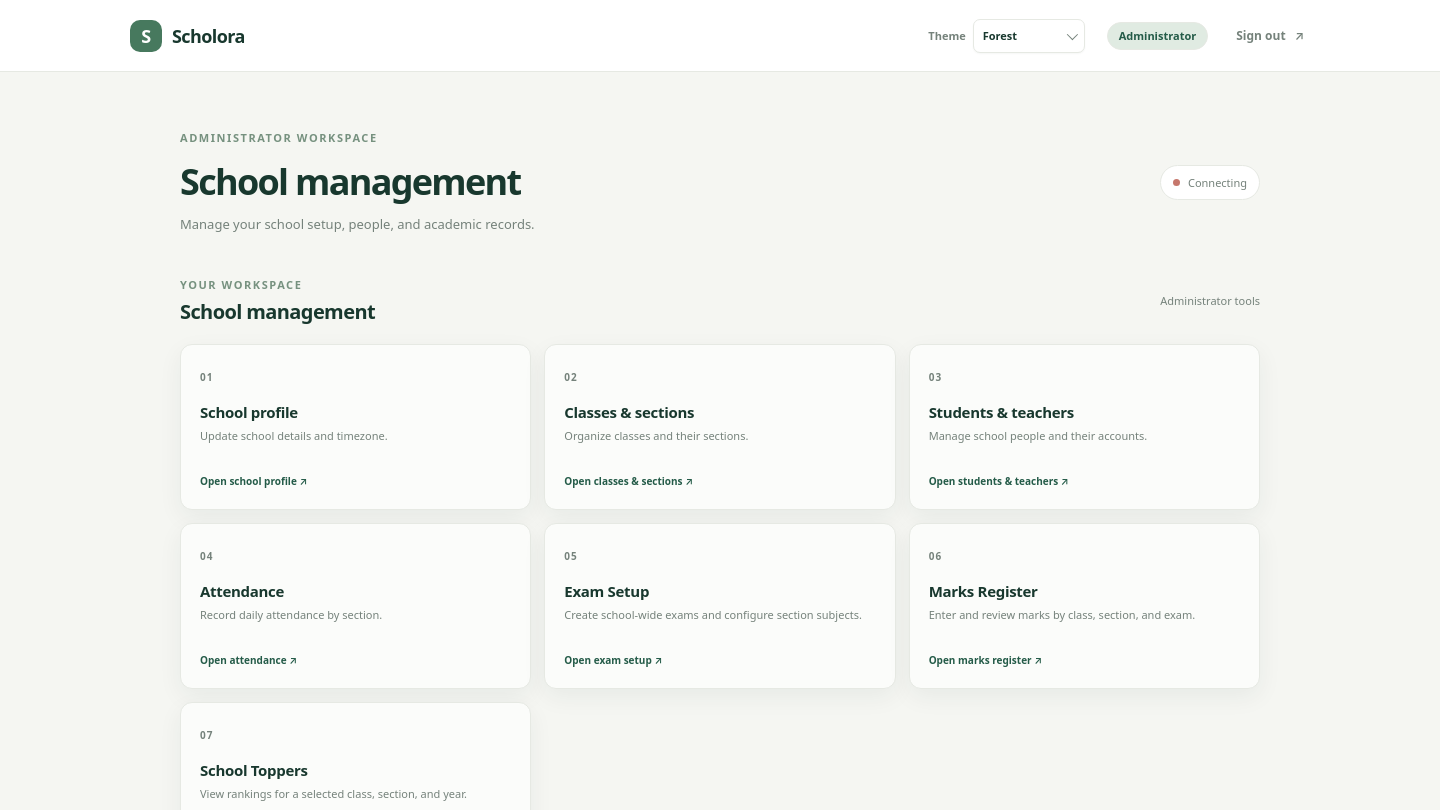
Test: admin navigation › opens the School management dashboard first and displays only the selected page
The width and height of the screenshot is (1440, 810).
Expected: the heading "School management" below "Administrator workspace" is shown, [180,157,535,206]
Expected: the link with aria-label "Scholora home" is shown, [130,20,245,52]
Click the link "School profile": (356, 427) [180,344,531,510]
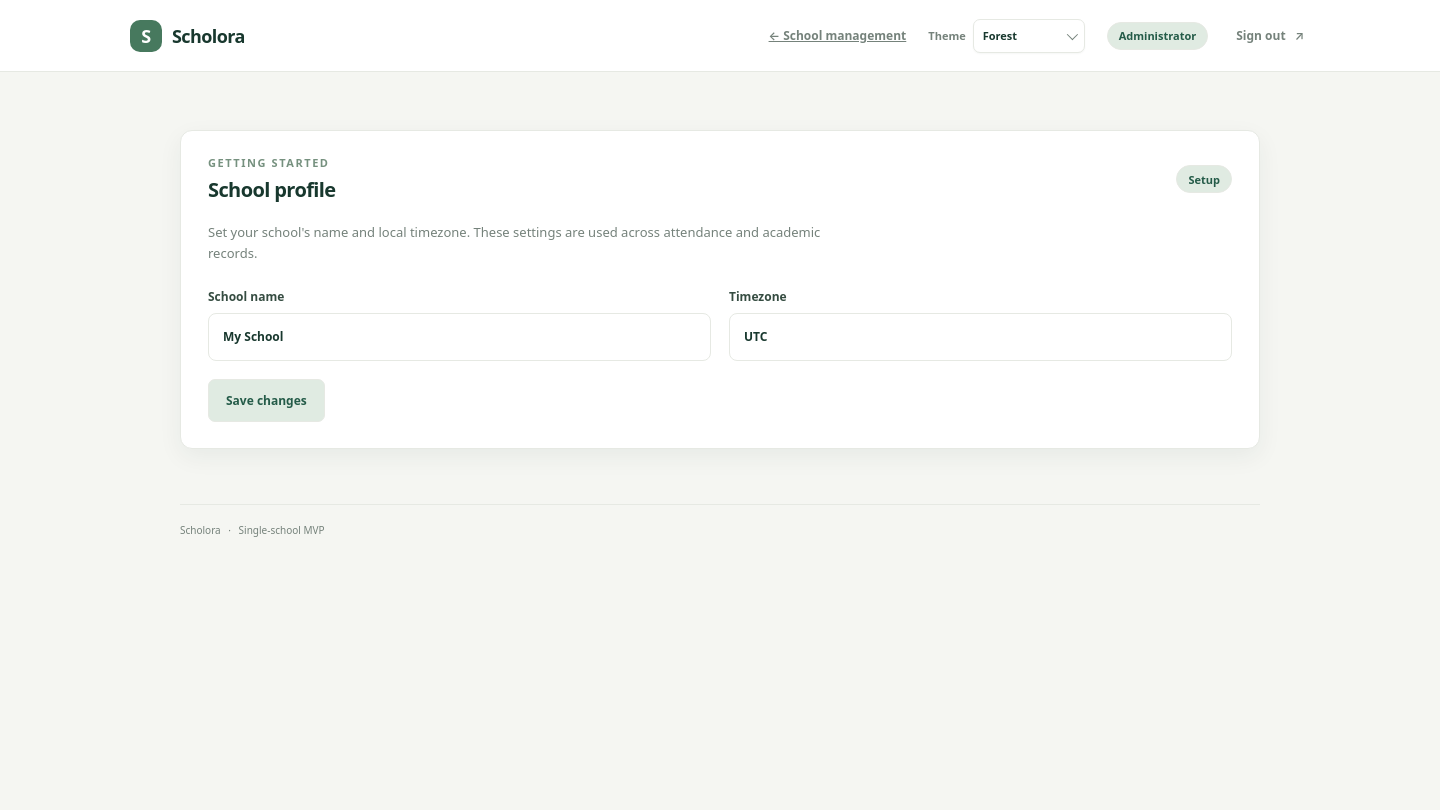
Expected: the heading "School profile" is shown, [208,176,336,203]
Expected: the link "Classes & sections" is gone
